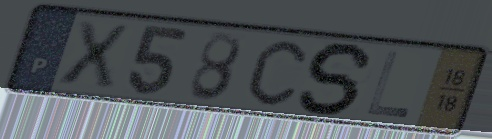5: (125, 21, 193, 98)
8: (186, 30, 245, 103)
C: (245, 38, 309, 108)
L: (363, 49, 412, 121)
S: (295, 40, 378, 117)
X: (54, 18, 133, 90)
